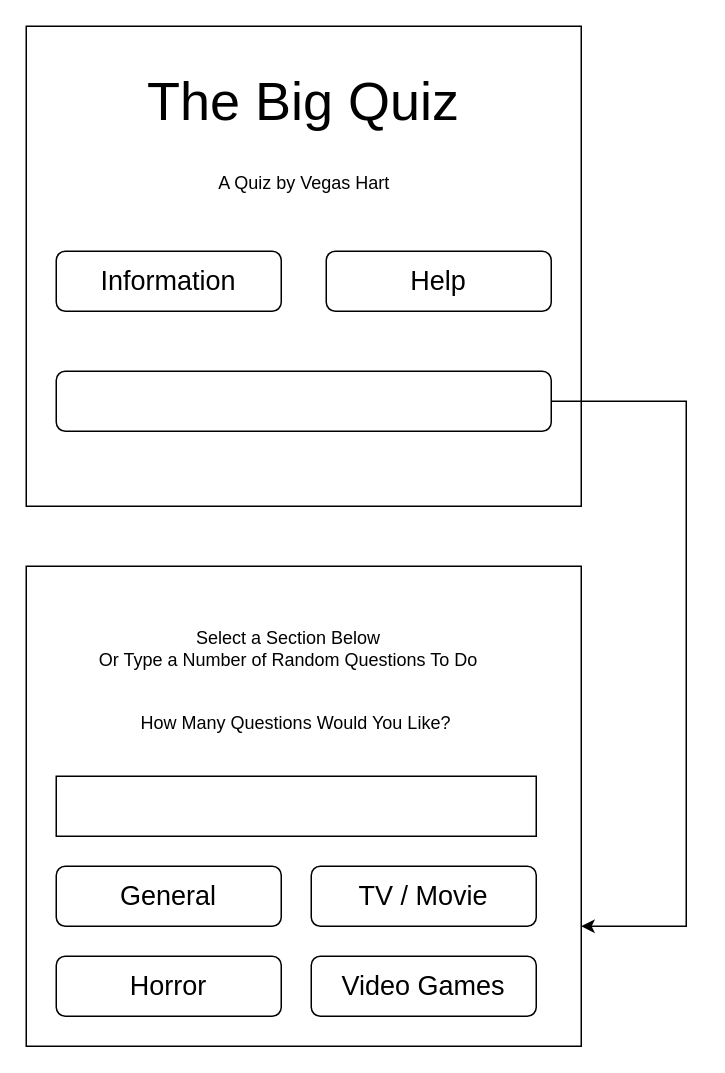
This 725x1073 diagram has some shape labels left out. The shapes that lost their labels are listed below. From the top down, each one's box as (x1, y1, x2, y2) in pixels, then its label:
(55, 370, 551, 431): Play
(55, 775, 536, 836): Insert Number Here
